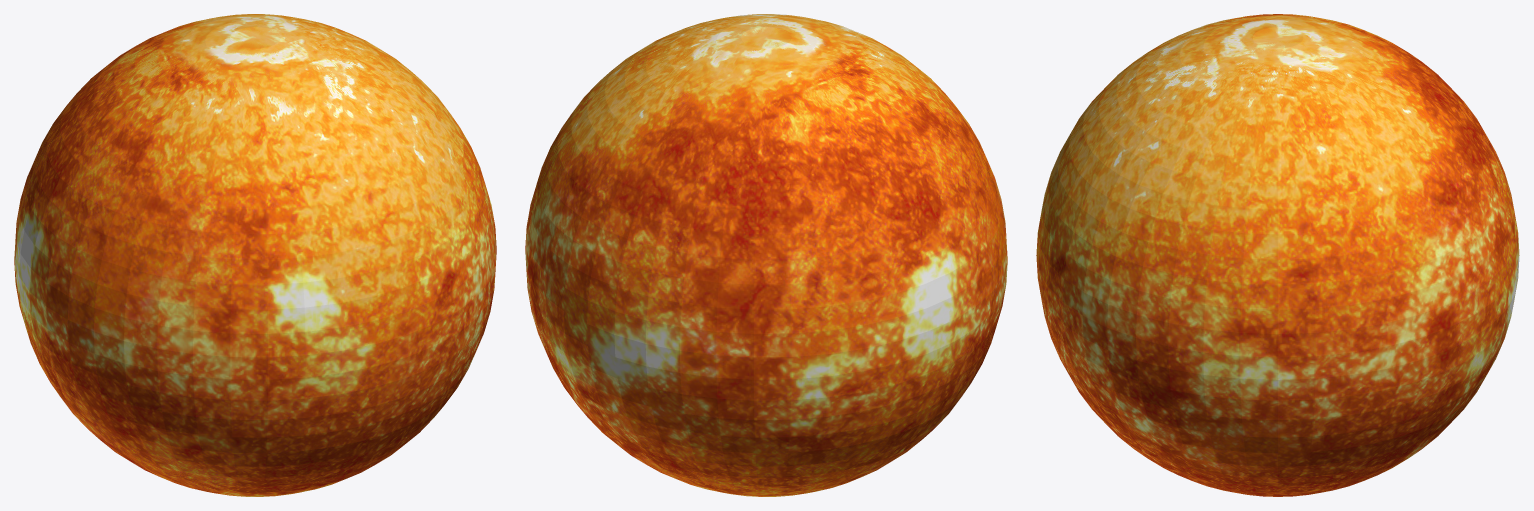
The model's file is Sun.glb.
3 renders of one model, left to right at view 1: azimuth 30°, elevation 25°; view 2: azimuth 150°, elevation 25°; view 3: azimuth 270°, elevation 25°, orthographic.
Parts seen in each view (by area): view 1: Sphere_001; view 2: Sphere_001; view 3: Sphere_001.
Boxes of the visible parts, bbox=[...] form: Sphere_001: bbox=[14, 14, 496, 496]; Sphere_001: bbox=[525, 14, 1007, 496]; Sphere_001: bbox=[1036, 14, 1519, 496].
Size of the model in its own units: 10.67 by 10.62 by 10.67.
Materials: 1 (1 with a texture image).
